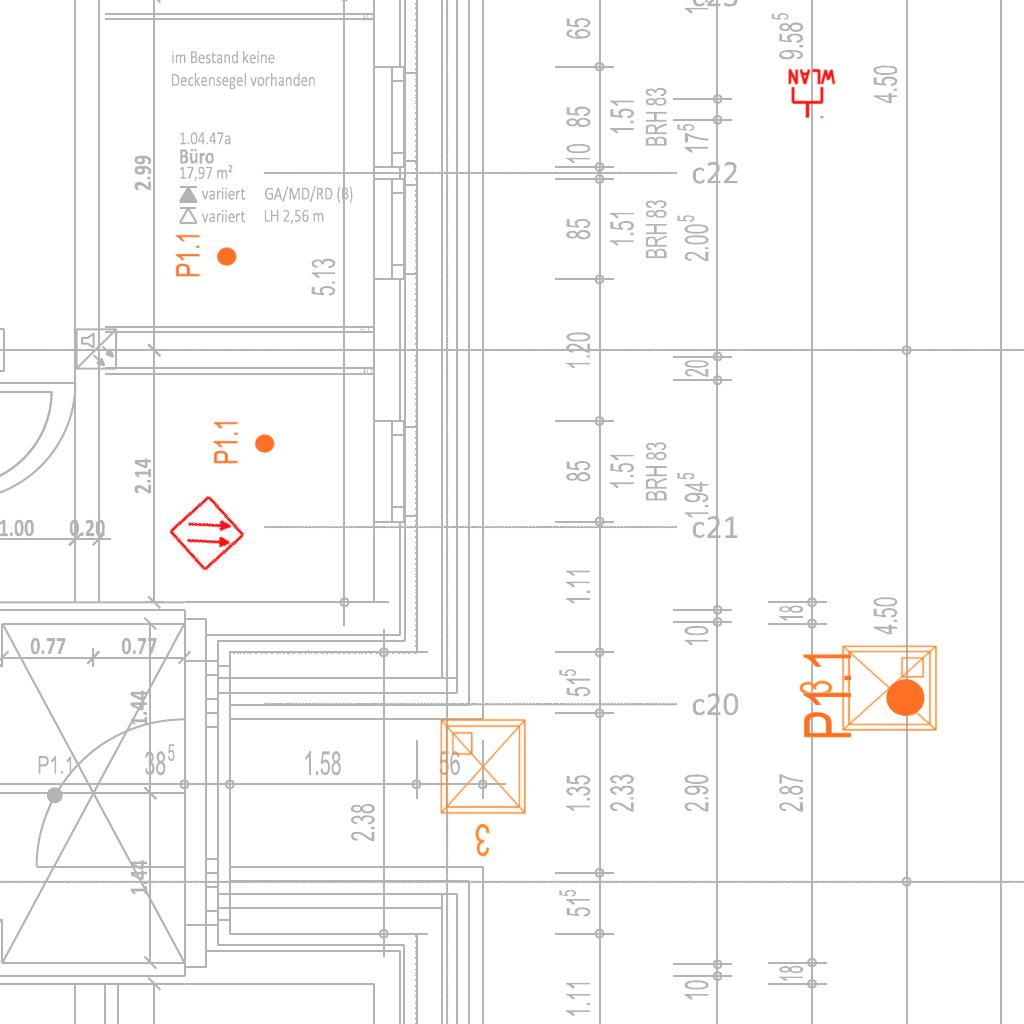Downlight_LED_Einbauleuchten_Flur: (800, 648, 928, 741), (212, 419, 276, 465), (174, 232, 238, 278)
Einbaudownlights_LED_Konferenzraeume: (794, 638, 944, 742), (433, 712, 537, 862)
RMO_Rauchmelder_optischer: (167, 493, 247, 573)
WLAN: (786, 68, 838, 120)
